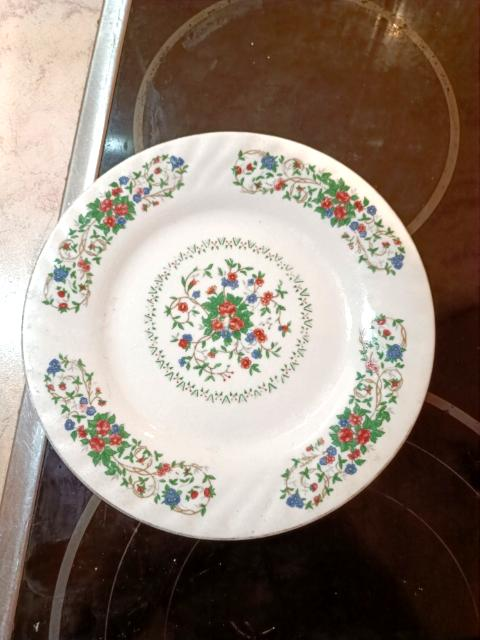Plate: (24, 133, 433, 538)
